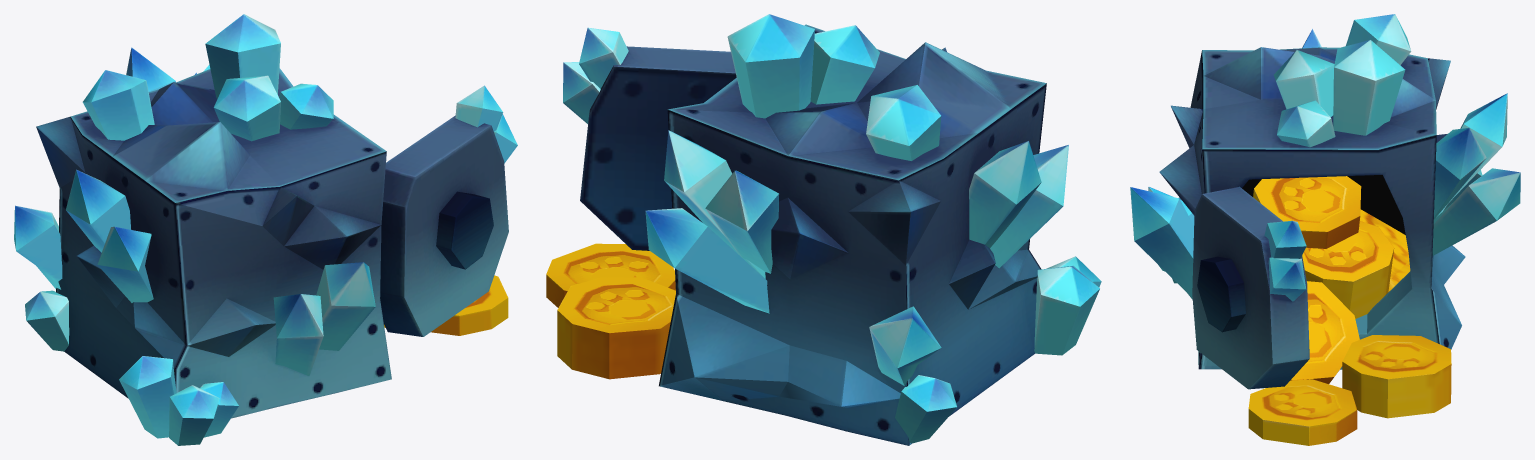
Rendered from Safe Crystal.obj.
3 views of the same model, side by side, from view 1: azimuth 30°, elevation 25°; view 2: azimuth 150°, elevation 25°; view 3: azimuth 270°, elevation 25° (orthographic). The views are drawn at different scales.
Visible parts, largest first — view 1: SafeCrystal1; view 2: SafeCrystal1; view 3: SafeCrystal1.
Boxes of the visible parts, box(x1,y1,x2,y2) form: SafeCrystal1: box(14, 14, 517, 445); SafeCrystal1: box(546, 14, 1101, 445); SafeCrystal1: box(1130, 14, 1520, 445).
Size of the model in its own units: 10.59 by 7.46 by 8.74.
Materials: 1 (1 with a texture image).
